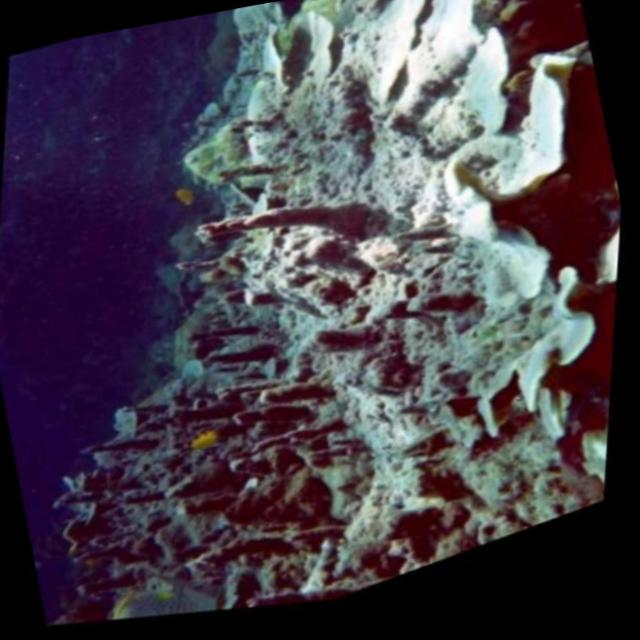Dead Coral: (42, 0, 640, 640), (133, 123, 549, 495), (0, 336, 390, 640)
